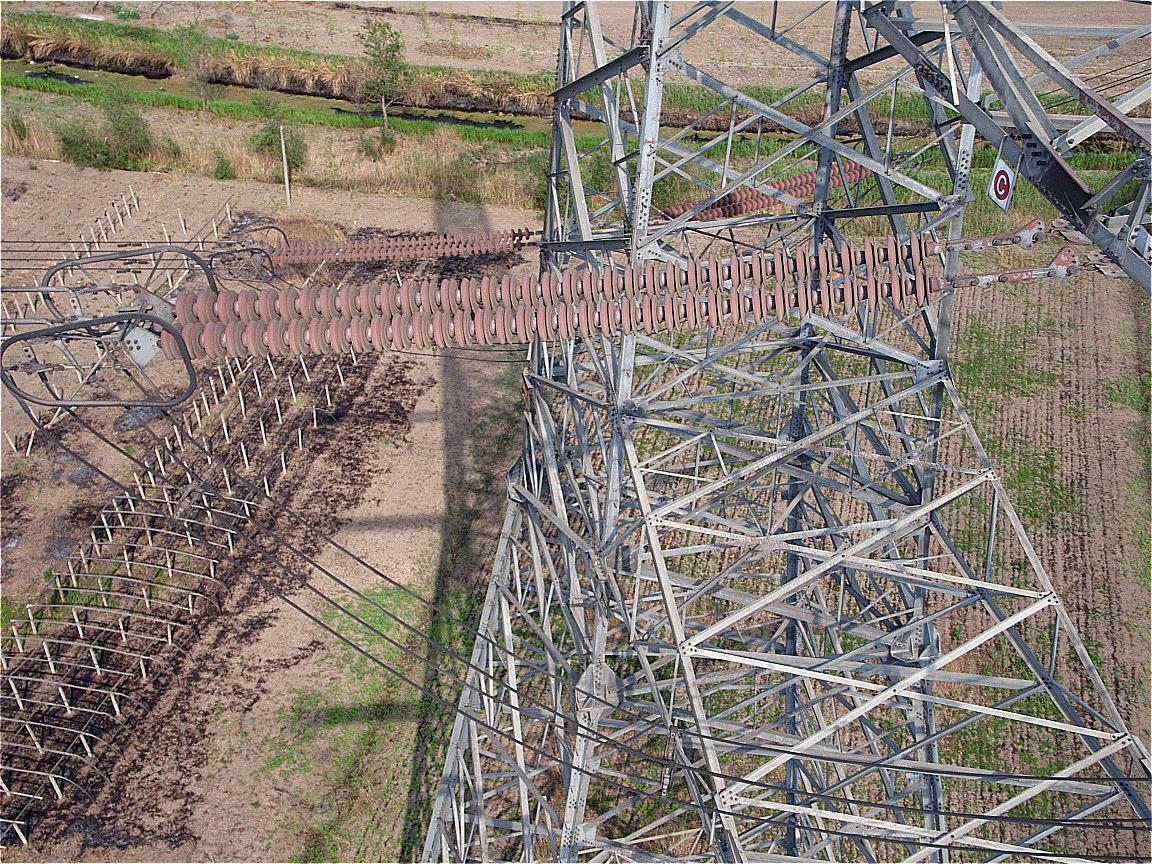insultor1: (271, 227, 531, 268)
insultor2: (158, 233, 933, 359)
